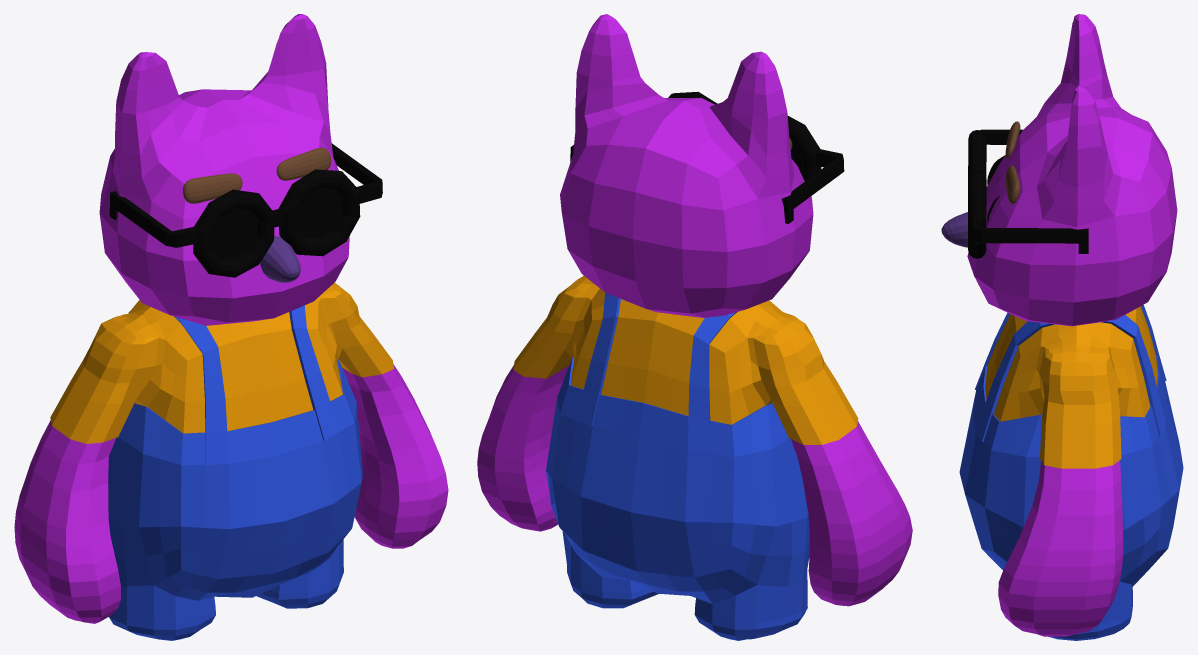
File: Main_Char_v4-Refined-done.fbx
The picture shows the model from 3 angles, left to right: view 1: azimuth 30°, elevation 25°; view 2: azimuth 150°, elevation 25°; view 3: azimuth 270°, elevation 25°; orthographic projection. The views are drawn at different scales.
Parts seen in each view (by area): view 1: HOSE, head, LEIBAL, body, goggles, TRAEGER, eyebrows, nose; view 2: head, HOSE, LEIBAL, body, TRAEGER, goggles; view 3: head, HOSE, LEIBAL, body, goggles, TRAEGER, eyebrows, nose.
Part boxes in pixels (box(x1,y1,x2,y2)): HOSE: box(108, 359, 362, 640); head: box(99, 14, 349, 325); LEIBAL: box(50, 282, 394, 443); body: box(14, 364, 448, 623); goggles: box(109, 143, 382, 277); TRAEGER: box(174, 305, 339, 464); eyebrows: box(183, 147, 331, 203); nose: box(260, 236, 300, 282); head: box(560, 14, 813, 317); HOSE: box(546, 357, 809, 640); LEIBAL: box(513, 276, 858, 444); body: box(477, 365, 912, 606); TRAEGER: box(575, 293, 736, 453); goggles: box(570, 91, 844, 223); head: box(967, 14, 1177, 326); HOSE: box(959, 355, 1183, 640); LEIBAL: box(985, 306, 1157, 468); body: box(998, 460, 1123, 636); goggles: box(968, 129, 1088, 258); TRAEGER: box(975, 305, 1166, 441); eyebrows: box(1005, 121, 1020, 204); nose: box(941, 212, 967, 247).
Bounding box in the file's own units: 271 × 378 × 151.
